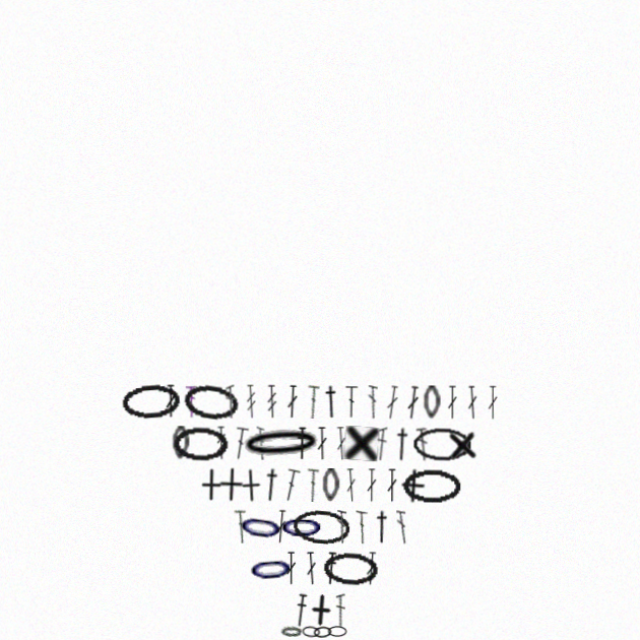chain: (237, 422, 322, 460), (181, 380, 240, 420), (121, 381, 180, 418), (290, 504, 348, 541), (320, 546, 377, 582), (409, 424, 466, 458), (235, 504, 285, 542), (399, 465, 456, 498), (173, 424, 228, 458), (246, 546, 294, 582), (277, 506, 323, 539), (320, 465, 337, 498), (172, 424, 189, 457), (419, 383, 436, 416), (300, 620, 319, 632), (280, 620, 300, 631), (312, 620, 330, 632), (326, 620, 345, 631)
double: (280, 465, 299, 499), (231, 424, 248, 458), (381, 383, 396, 417), (412, 424, 426, 458), (402, 383, 416, 417), (303, 465, 317, 498), (303, 383, 317, 416), (303, 547, 316, 580), (362, 547, 375, 580), (233, 506, 246, 539), (273, 506, 286, 539), (342, 465, 355, 498), (332, 424, 345, 457), (342, 383, 355, 416), (461, 383, 474, 416), (353, 506, 365, 539), (284, 383, 296, 416), (284, 547, 295, 580), (393, 506, 404, 539), (363, 465, 374, 498), (383, 465, 394, 498), (314, 424, 325, 457), (373, 424, 384, 457), (165, 383, 176, 416), (185, 383, 196, 416), (224, 383, 235, 416), (442, 383, 453, 416), (482, 383, 493, 416), (334, 506, 344, 539), (364, 383, 374, 416), (334, 588, 343, 621), (255, 424, 264, 457)
half_double: (259, 464, 281, 499), (388, 424, 409, 458), (369, 506, 389, 539), (319, 383, 338, 416), (292, 588, 307, 622), (322, 547, 336, 580), (294, 424, 306, 457)
single: (302, 587, 337, 622), (341, 423, 376, 458), (233, 465, 267, 499), (194, 465, 227, 498), (442, 424, 474, 458), (396, 465, 422, 499), (217, 465, 243, 498)
treble: (243, 383, 256, 416), (264, 383, 276, 416), (215, 424, 226, 457)
